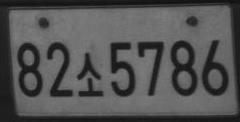2: (45, 40, 73, 97)
5: (109, 41, 136, 97)
6: (200, 40, 229, 96)
7: (137, 40, 164, 96)
8: (169, 39, 198, 97), (16, 42, 43, 97)
소: (76, 52, 104, 97)
